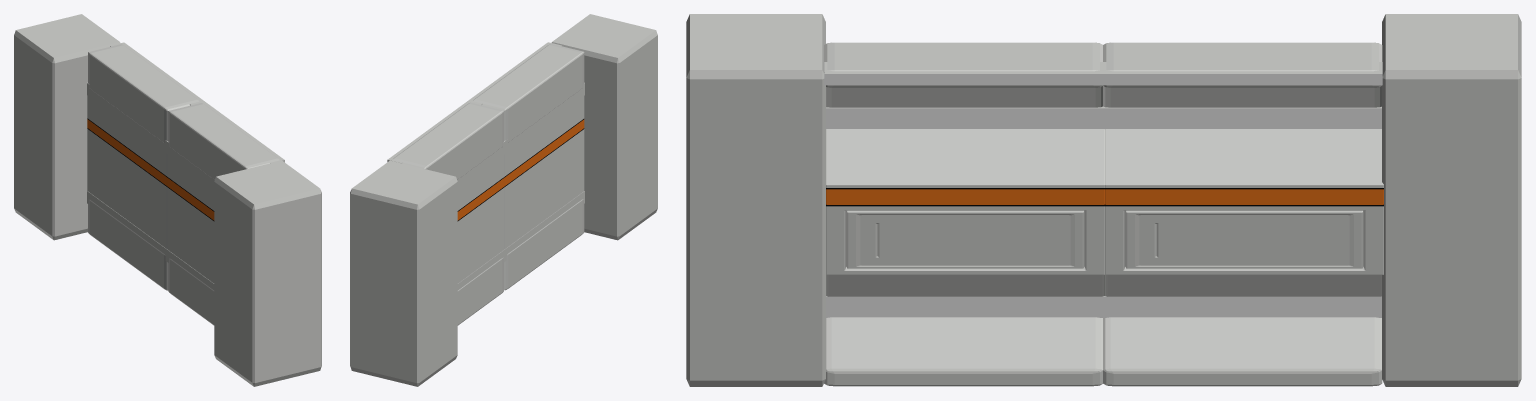
File: MiddleWallColored.fbx
3 renders of one model, left to right at view 1: azimuth 30°, elevation 25°; view 2: azimuth 150°, elevation 25°; view 3: azimuth 270°, elevation 25°, orthographic. The views are drawn at different scales.
Visible parts, largest first — view 1: MiddleWallColored, Pillar, Pillar.003; view 2: MiddleWallColored, Pillar.003, Pillar; view 3: MiddleWallColored, Pillar, Pillar.003.
Part boxes in pixels (left/top/right/bottom): MiddleWallColored: left=87, top=42, right=284, bottom=325; Pillar: left=214, top=160, right=321, bottom=386; Pillar.003: left=14, top=14, right=120, bottom=240; MiddleWallColored: left=387, top=42, right=584, bottom=325; Pillar.003: left=350, top=160, right=457, bottom=386; Pillar: left=551, top=14, right=657, bottom=240; MiddleWallColored: left=824, top=42, right=1383, bottom=386; Pillar: left=686, top=14, right=825, bottom=386; Pillar.003: left=1382, top=14, right=1521, bottom=386.
Size of the model in its own units: 205 by 501 by 1197.
